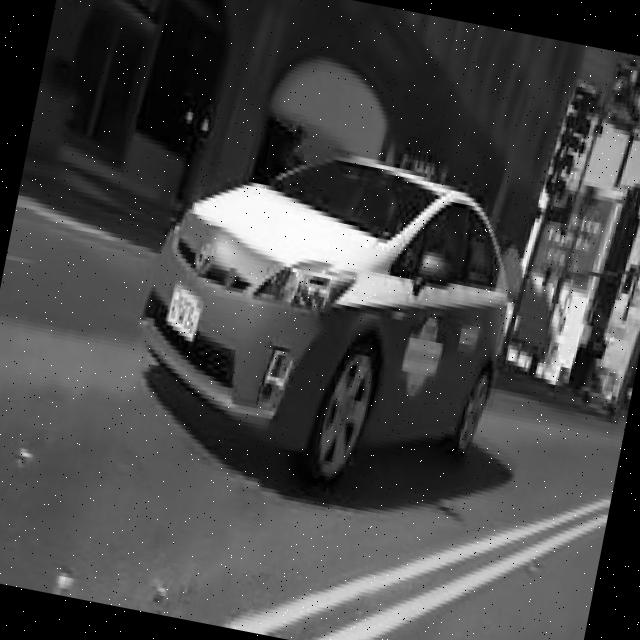License_Plate: (163, 280, 206, 343)
car: (107, 106, 570, 515)
